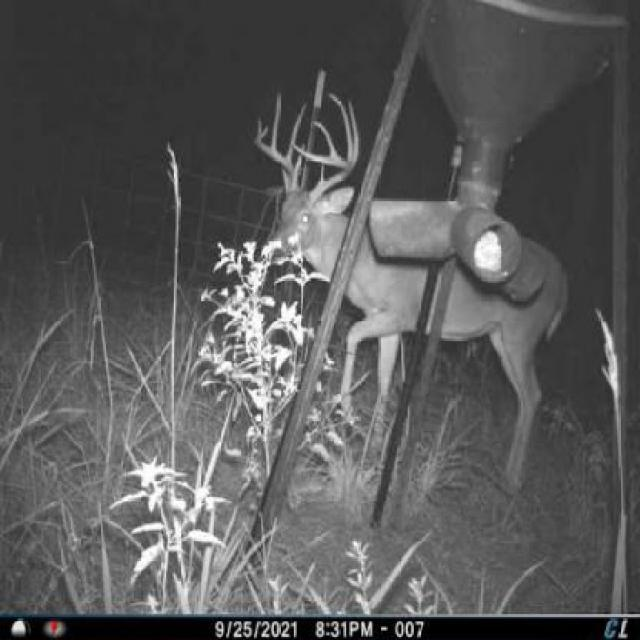Deer: (243, 83, 572, 500)
